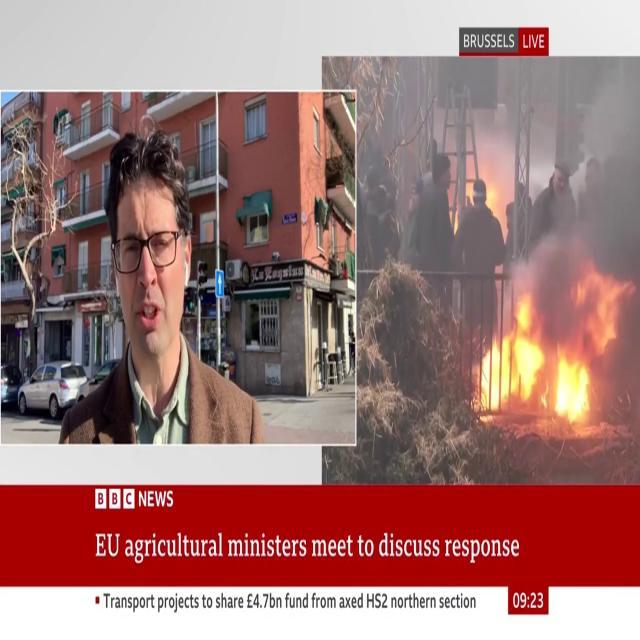Fire: (476, 285, 628, 427)
Smoke: (525, 56, 640, 378)
